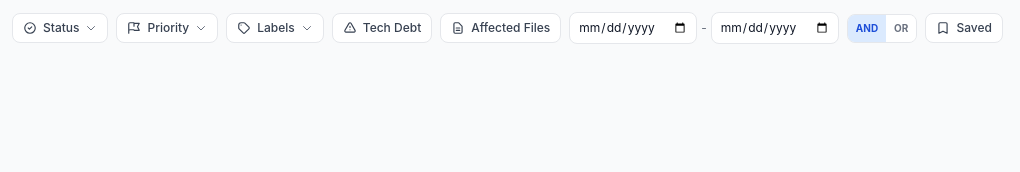
Test: FilterBuilder › shows the empty state for labels when none are available
Click the button "Labels" at (275,28), box [226,13,324,43]
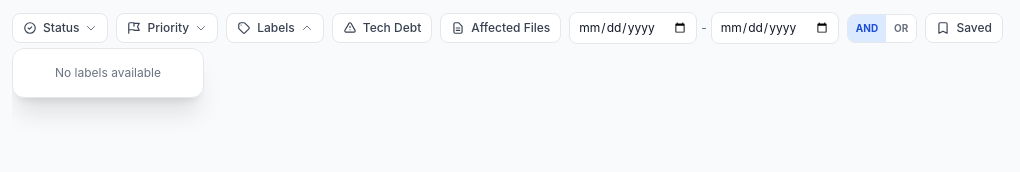
Now the text "No labels available" is shown, box [55,65,161,80]
